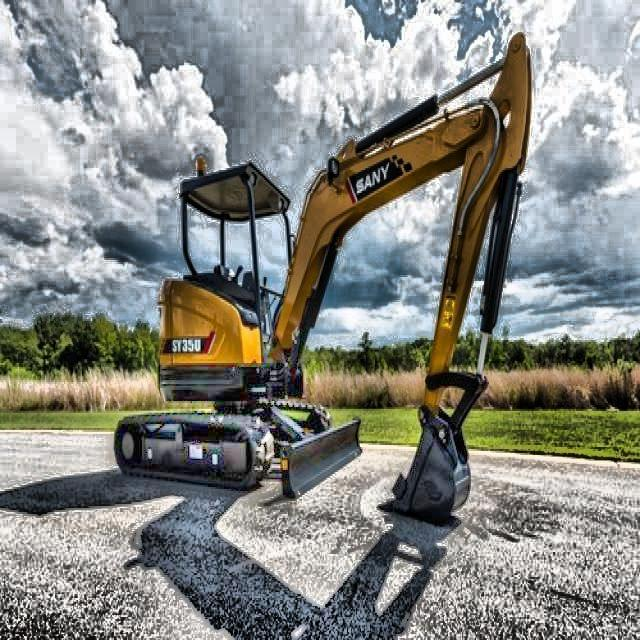excavator: (111, 27, 534, 524)
